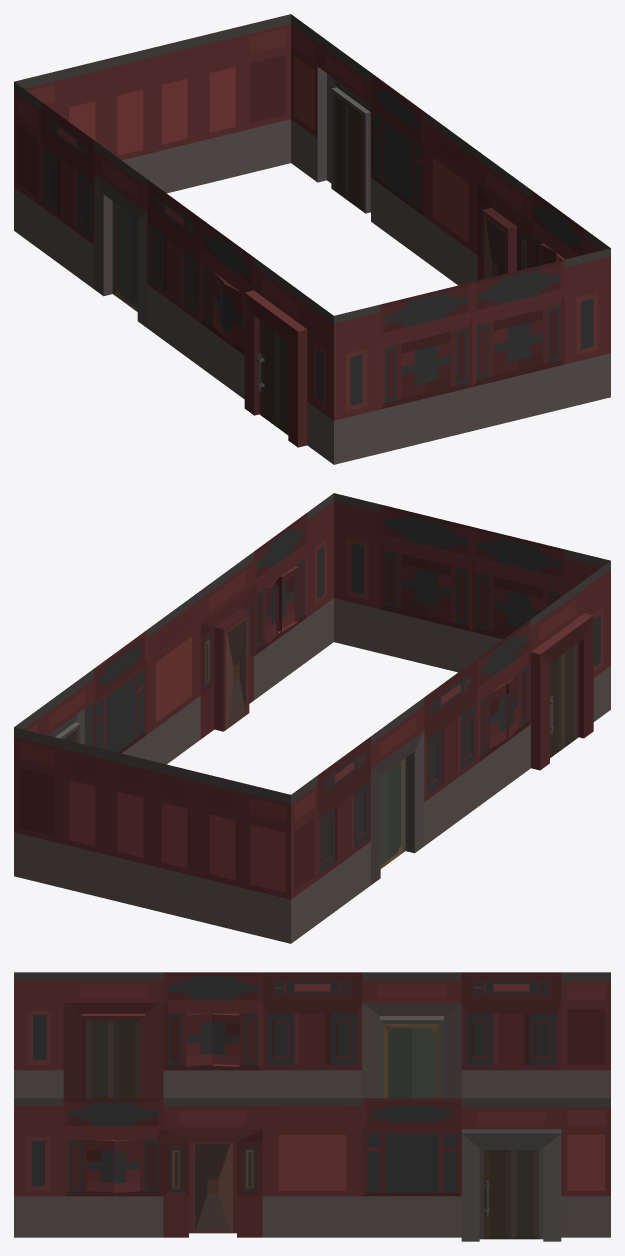
The model's file is BuildingA-Ext_CLOD1.fbx.
3 views of the same model, one above another, from view 1: azimuth 30°, elevation 25°; view 2: azimuth 150°, elevation 25°; view 3: azimuth 270°, elevation 25° (orthographic). The views are drawn at different scales.
Parts seen in each view (by area): view 1: BuildingA-Ext_CLOD1; view 2: BuildingA-Ext_CLOD1; view 3: BuildingA-Ext_CLOD1.
Part boxes in pixels (<box>): BuildingA-Ext_CLOD1: <box>14,14,610,464</box>; BuildingA-Ext_CLOD1: <box>14,493,610,943</box>; BuildingA-Ext_CLOD1: <box>14,972,610,1241</box>.
Size of the model in its own units: 800 by 386 by 1500.
